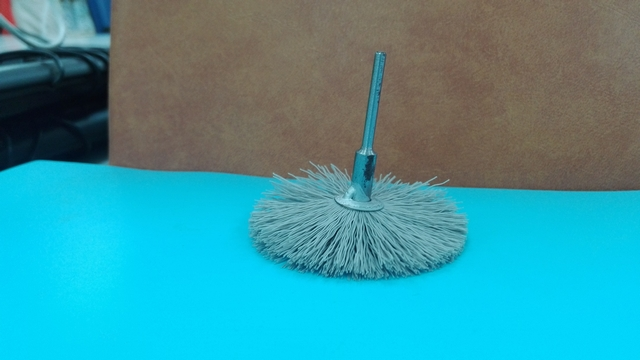TOOL: (233, 40, 490, 292), (277, 22, 495, 287), (244, 83, 472, 286)
